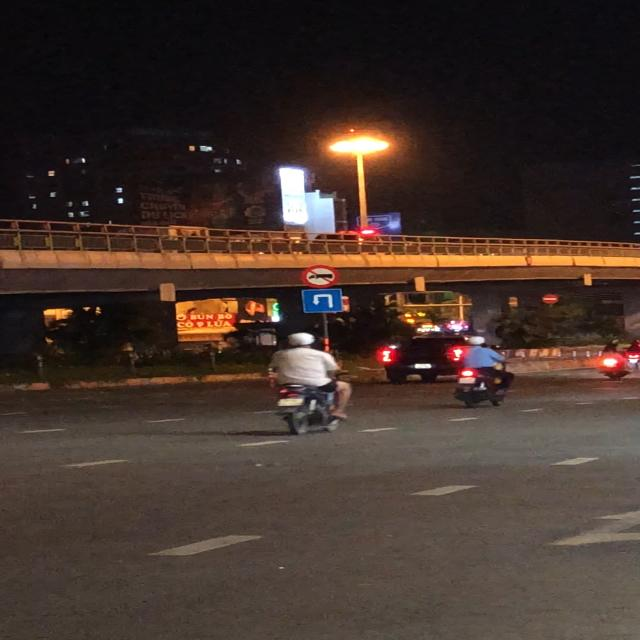Bien bao cam xe so-mi ro-mooc: (300, 264, 339, 288)
